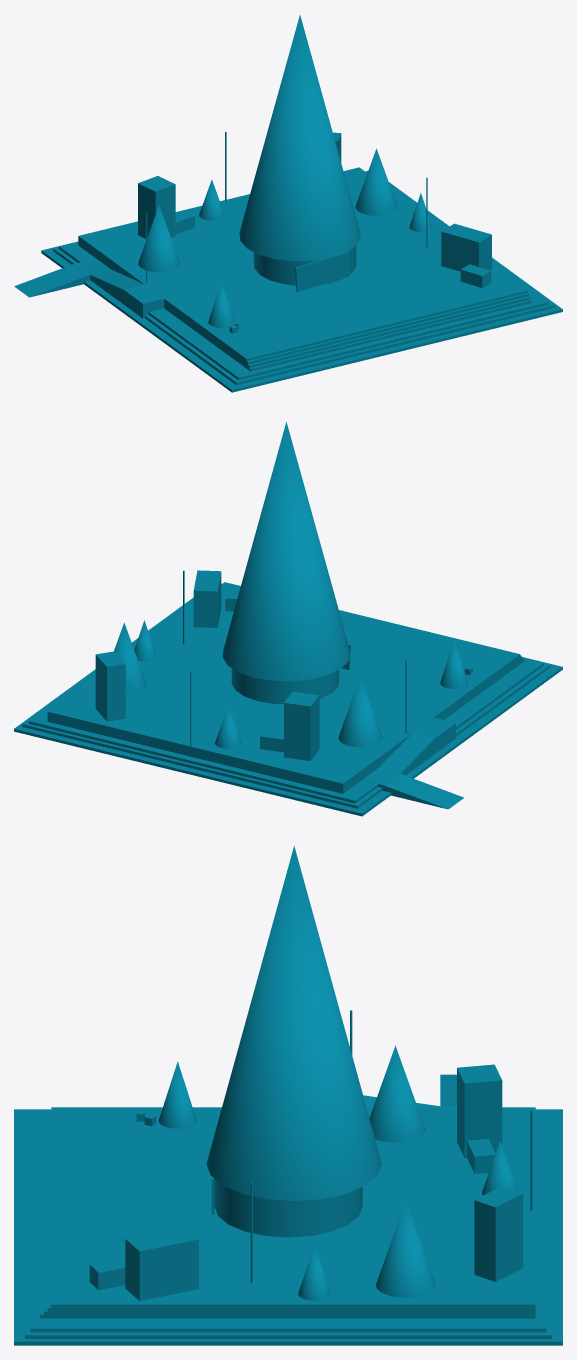
The model's file is ChristmasTree.glb.
The picture shows the model from 3 angles, top to bottom: view 1: azimuth 30°, elevation 25°; view 2: azimuth 150°, elevation 25°; view 3: azimuth 270°, elevation 25°; orthographic projection. The views are drawn at different scales.
Visible parts, largest first — view 1: ChristmasTreeToBlender; view 2: ChristmasTreeToBlender; view 3: ChristmasTreeToBlender.
Boxes of the visible parts, left/top/right/bottom form: ChristmasTreeToBlender: left=14, top=15, right=562, bottom=392; ChristmasTreeToBlender: left=14, top=422, right=562, bottom=816; ChristmasTreeToBlender: left=14, top=846, right=562, bottom=1345.
Size of the model in its own units: 117 by 77.14 by 100.
